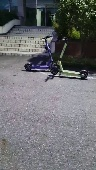beam: (24, 33, 56, 71)
gcooter: (50, 36, 90, 80)
